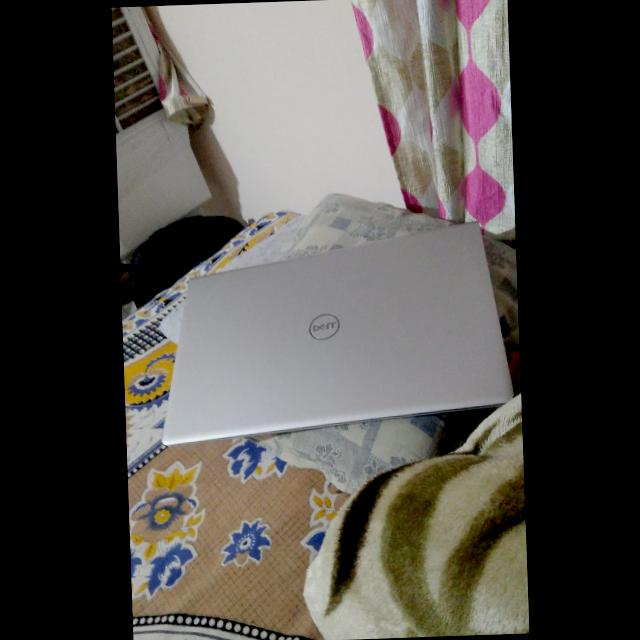laptop: (144, 208, 522, 443)
